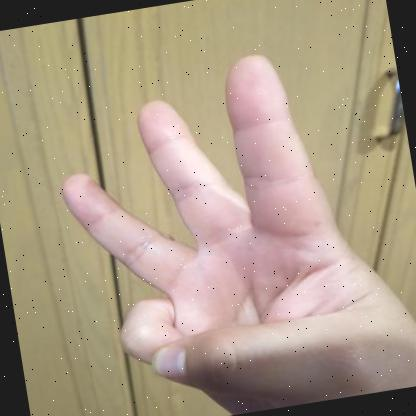W: (61, 54, 416, 414)
